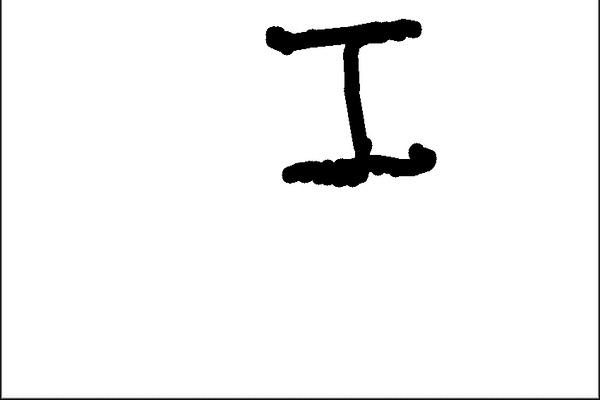i: (249, 11, 449, 193)
